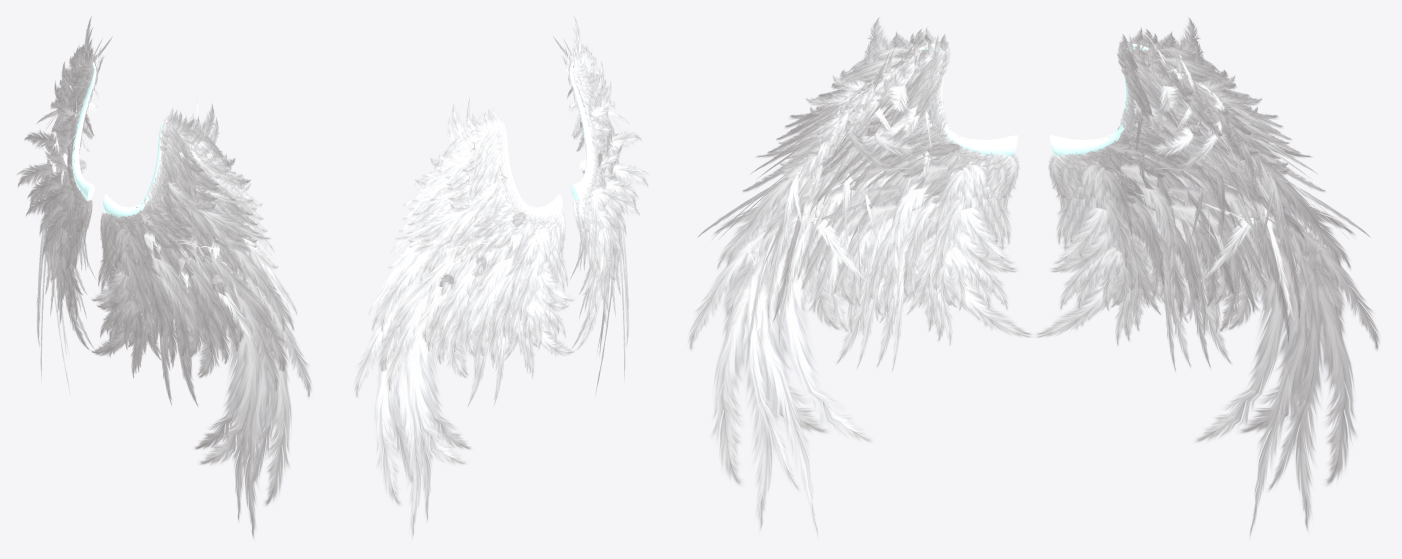
The model's file is wings.glb.
3 renders of one model, left to right at view 1: azimuth 30°, elevation 25°; view 2: azimuth 150°, elevation 25°; view 3: azimuth 270°, elevation 25°, orthographic. The views are drawn at different scales.
Parts seen in each view (by area): view 1: polySurface2631_Feather_0, polySurface2197_Feather_0, polySurface2197_Wing_0, polySurface2631_Wing_0; view 2: polySurface2197_Feather_0, polySurface2631_Feather_0, polySurface2631_Wing_0, polySurface2197_Wing_0; view 3: polySurface2197_Feather_0, polySurface2631_Feather_0, polySurface2197_Wing_0, polySurface2631_Wing_0.
Part boxes in pixels (<box>): polySurface2631_Feather_0: <box>91,97,311,538</box>; polySurface2197_Feather_0: <box>17,16,112,395</box>; polySurface2197_Wing_0: <box>72,62,96,200</box>; polySurface2631_Wing_0: <box>103,120,174,218</box>; polySurface2197_Feather_0: <box>354,97,574,538</box>; polySurface2631_Feather_0: <box>553,16,648,395</box>; polySurface2631_Wing_0: <box>569,62,593,200</box>; polySurface2197_Wing_0: <box>491,120,562,218</box>; polySurface2197_Feather_0: <box>1036,18,1379,536</box>; polySurface2631_Feather_0: <box>688,18,1031,536</box>; polySurface2197_Wing_0: <box>1050,43,1150,156</box>; polySurface2631_Wing_0: <box>917,43,1017,156</box>.
Bounding box in the file's own units: 0.2634 × 1 × 1.21.
2 materials, 2 textured.
